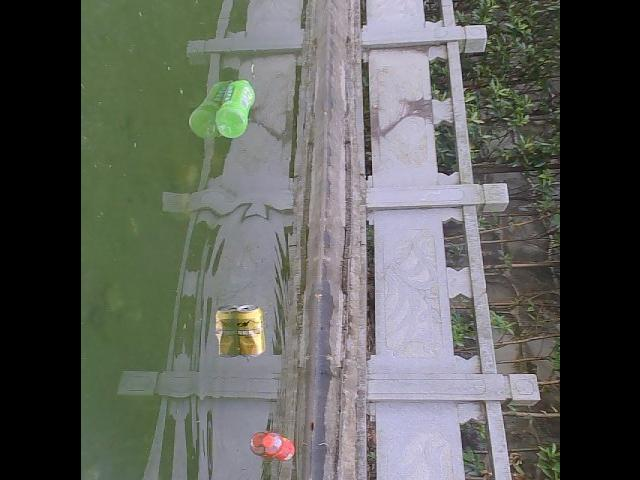Bottle: (217, 77, 256, 141), (258, 430, 296, 465)
Can: (232, 302, 266, 359)
